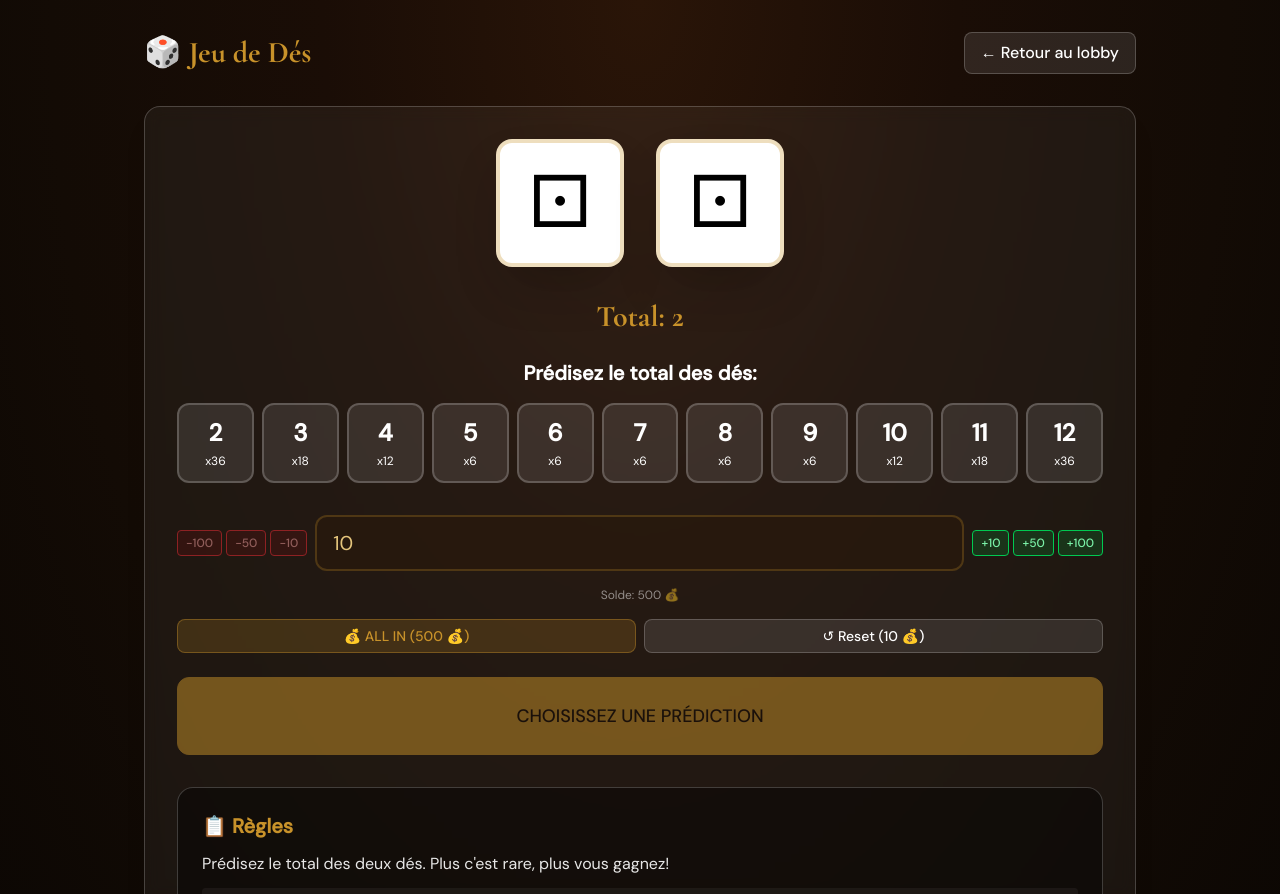
DiceGame › disables rolling until a prediction is selected
The image size is (1280, 894).
Check: the button "CHOISISSEZ UNE PRÉDICTION" is disabled, box [177,677,1103,755]
Click the button "7 x6" at (640, 443), box [602,403,678,483]
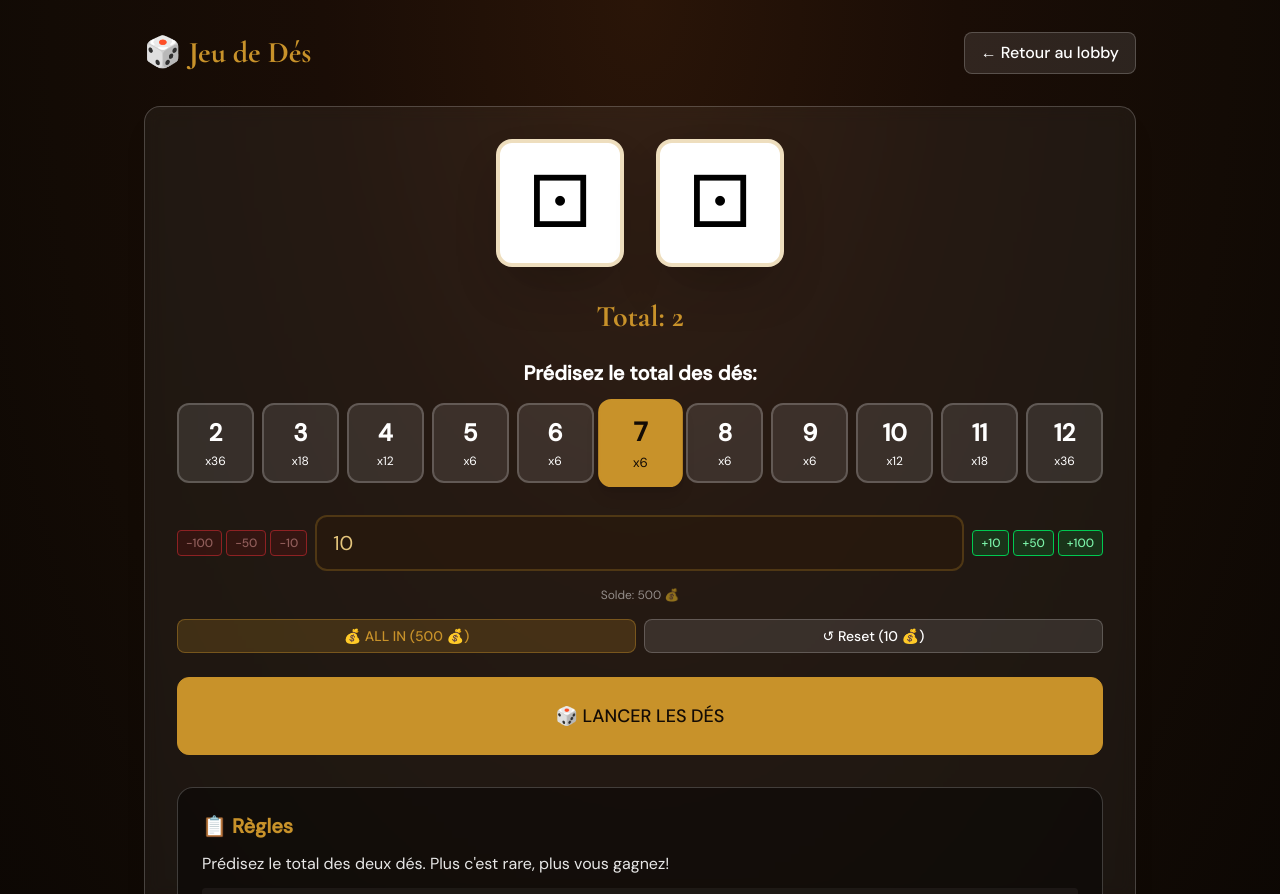
Check: the button "🎲 LANCER LES DÉS" is enabled, box [177,677,1103,755]
Check: the text "LANCER LES DÉS" is shown, box [177,677,1103,755]
